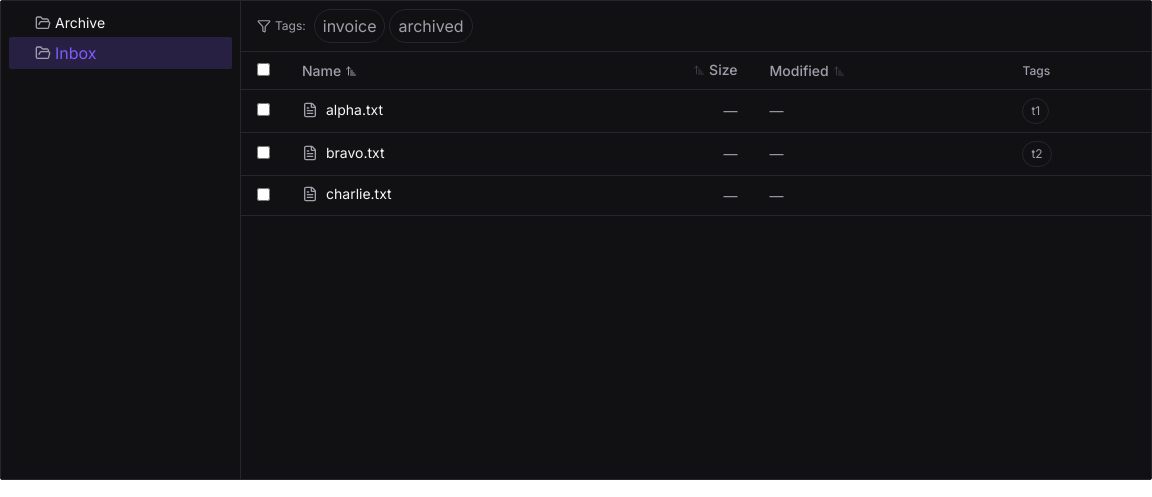
Test: FileBrowser — bulk selection + toolbar › checkbox click toggles selection and shows the toolbar at >=1 selected
This screenshot has width=1152, height=497.
Expected: the row with test id "file-row-f1" is shown, 241,90 -> 1151,132
Click the checkbox with test id "file-row-checkbox-f1" at x=264, y=110, box 257,103 -> 270,116
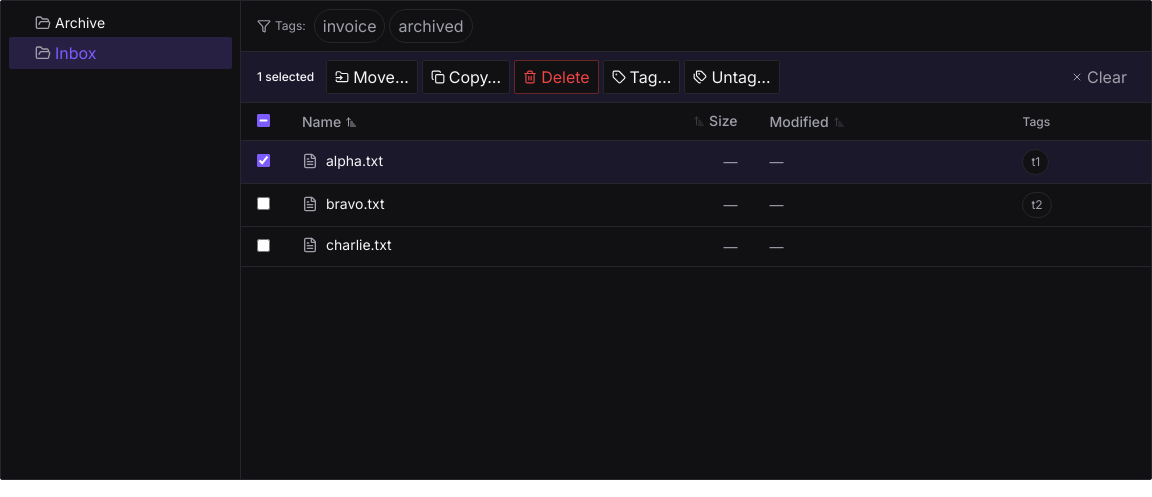
Expected: the element with test id "bulk-toolbar" is shown, 241,52 -> 1151,103
Expected: the text with test id "bulk-toolbar-count" reads "1 selected", 257,69 -> 314,85
# Toggle a second row via the master? No — toggle a second checkbox.
Click the checkbox with test id "file-row-checkbox-f2" at x=264, y=204, box 257,197 -> 270,210
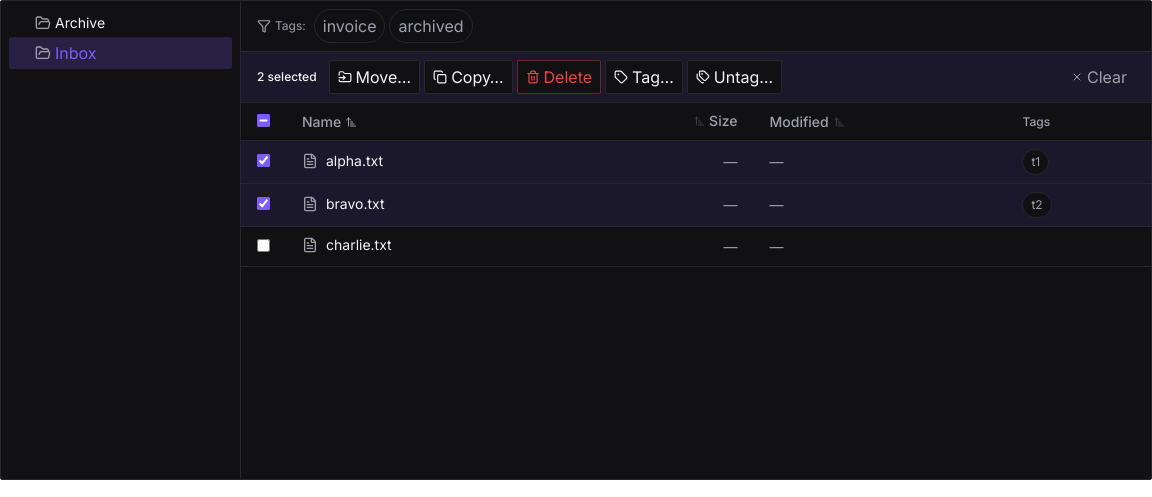
Expected: the text with test id "bulk-toolbar-count" reads "2 selected", 257,69 -> 317,85
